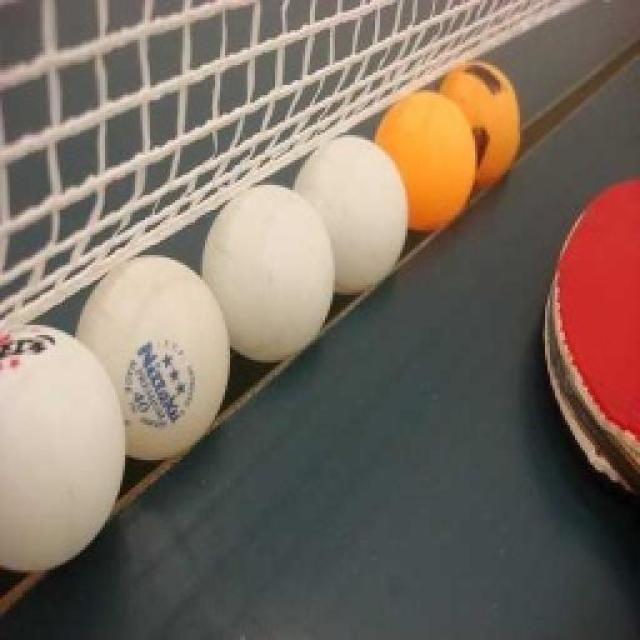oball: (373, 92, 481, 238), (438, 62, 520, 208)
